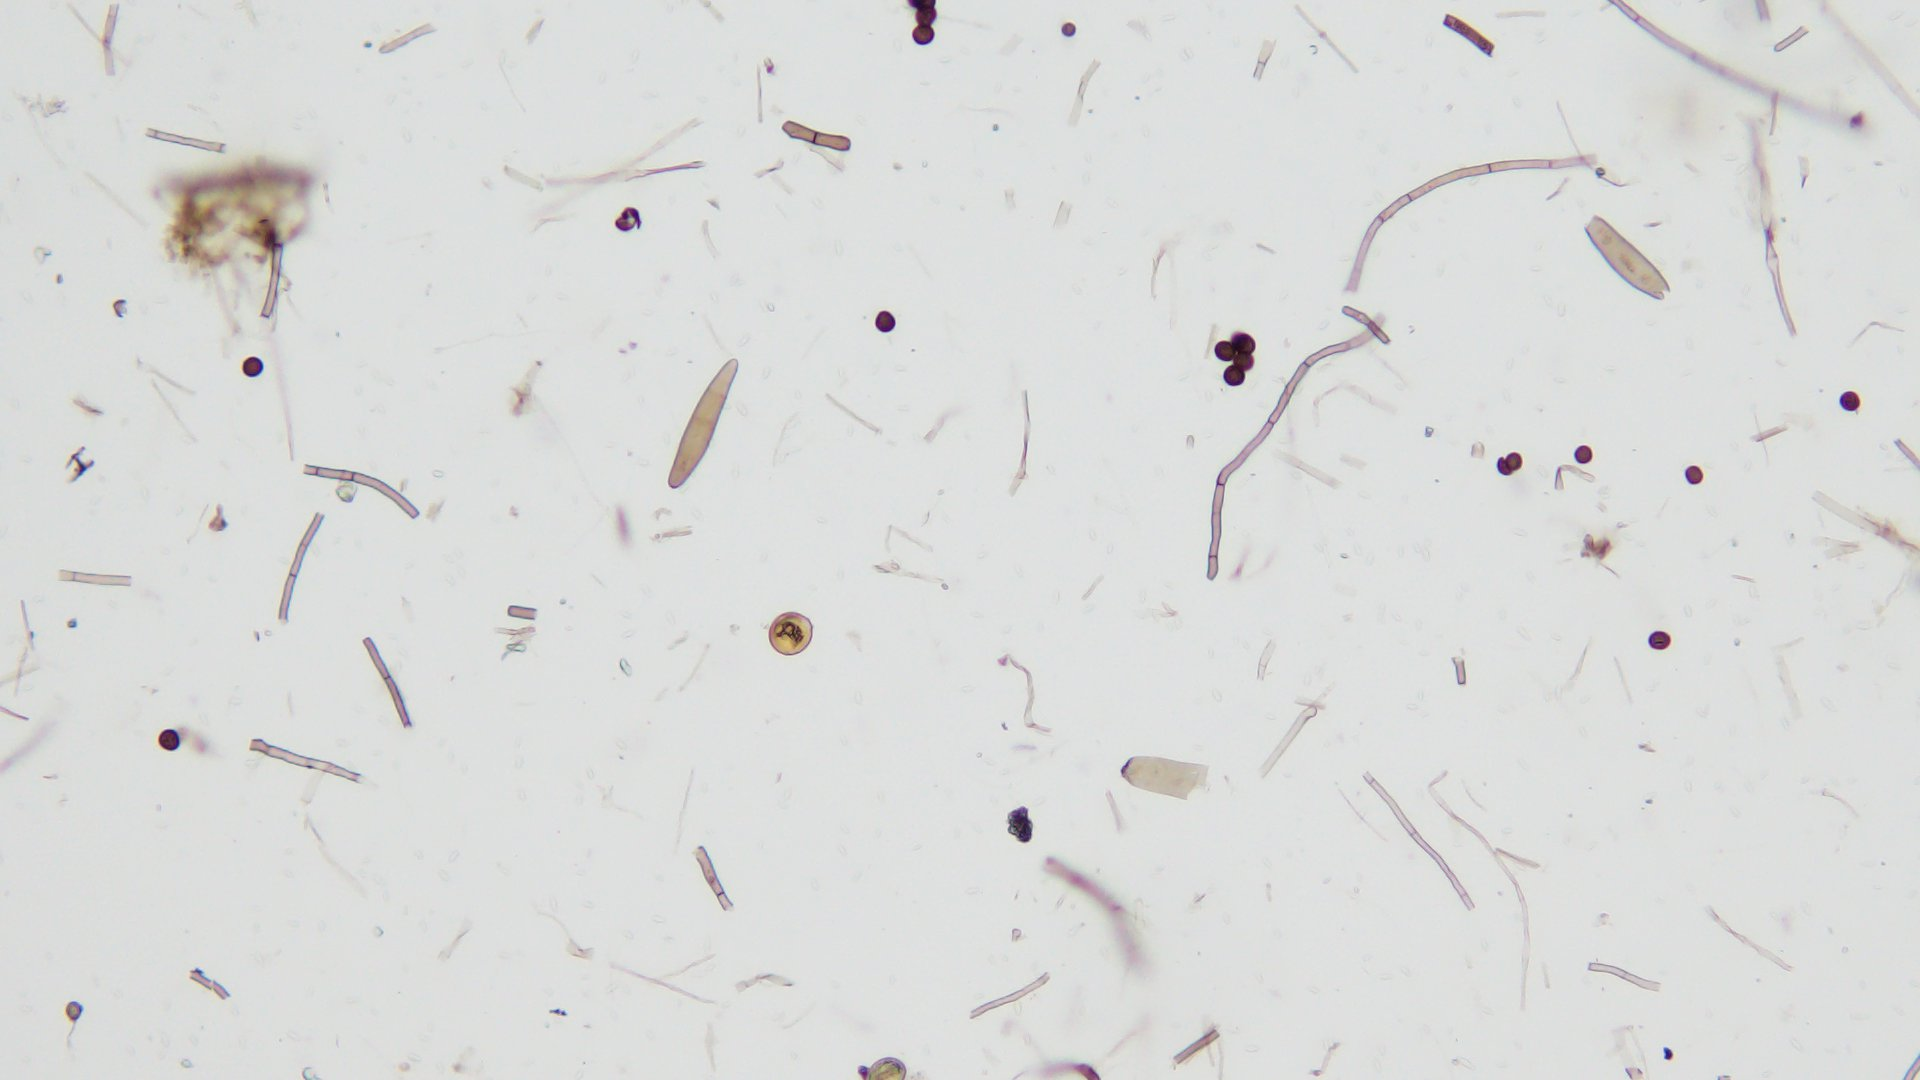dbb_spore: (665, 359, 735, 488), (1586, 215, 1669, 301)
shs_spore: (1211, 339, 1236, 363), (241, 356, 265, 378), (1232, 331, 1255, 353), (1840, 386, 1861, 411), (158, 729, 181, 752), (872, 313, 895, 334), (1646, 629, 1672, 647), (1222, 367, 1246, 386), (914, 4, 938, 24), (1572, 446, 1593, 465), (1683, 467, 1705, 485), (913, 26, 934, 45), (1233, 352, 1255, 369), (1505, 451, 1523, 469)
xb_spore: (769, 611, 814, 655)
